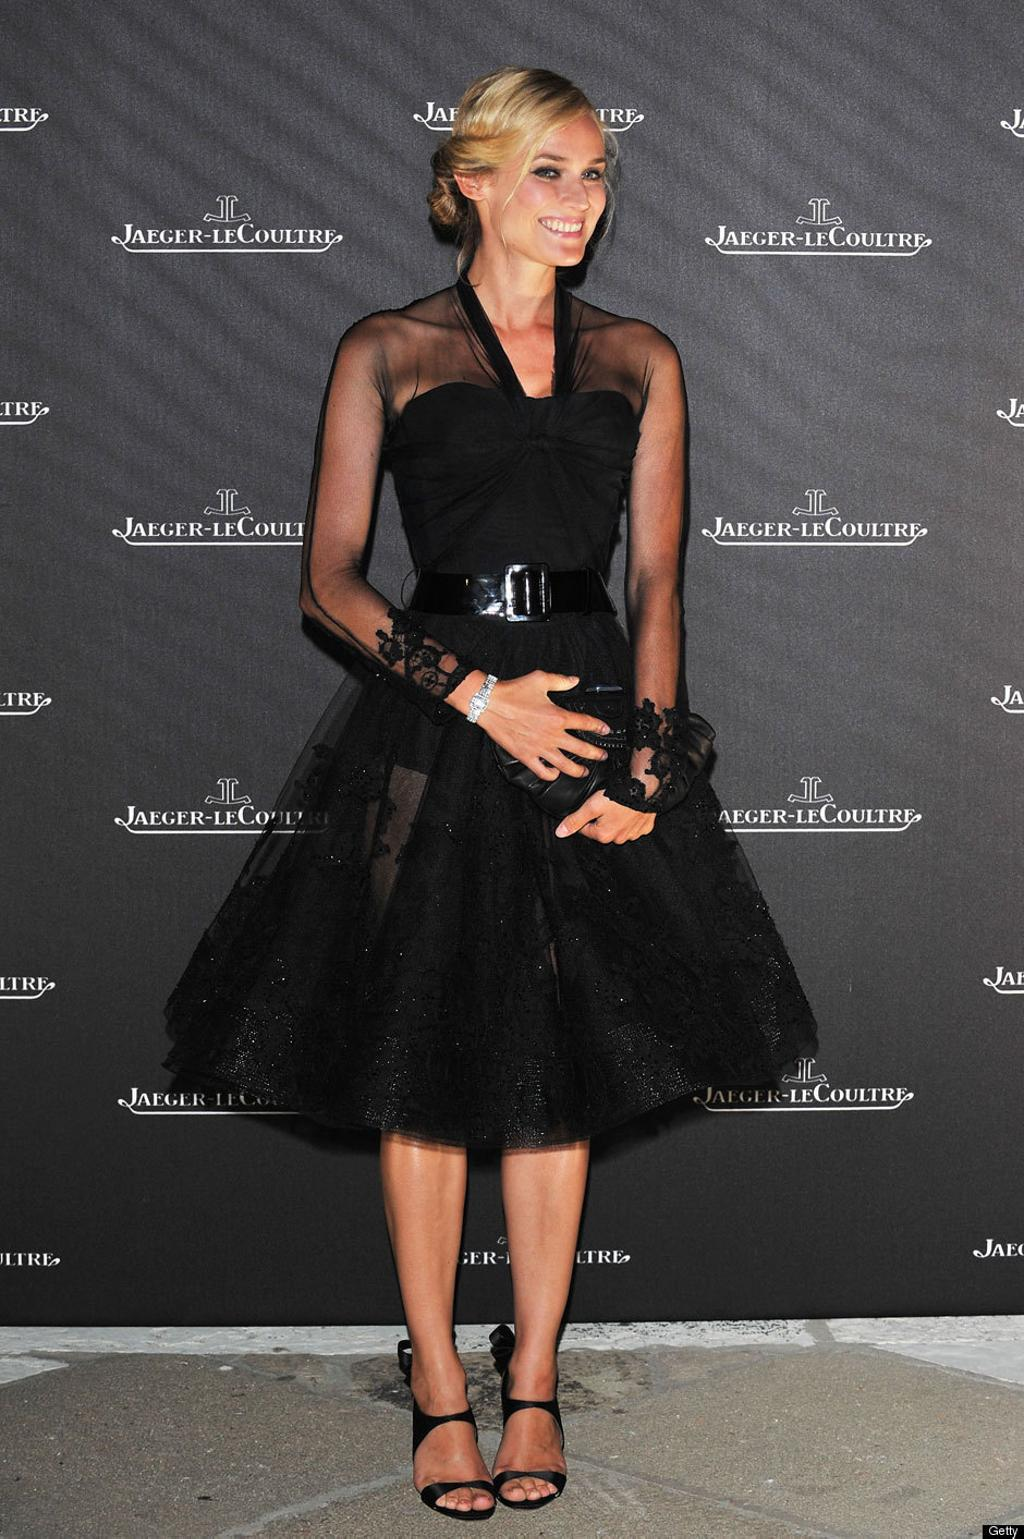face: (486, 108, 606, 267)
